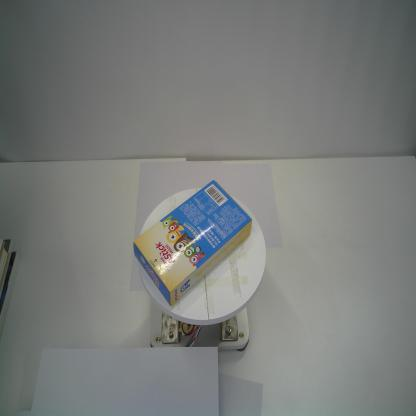Dessert: (132, 178, 252, 306)
